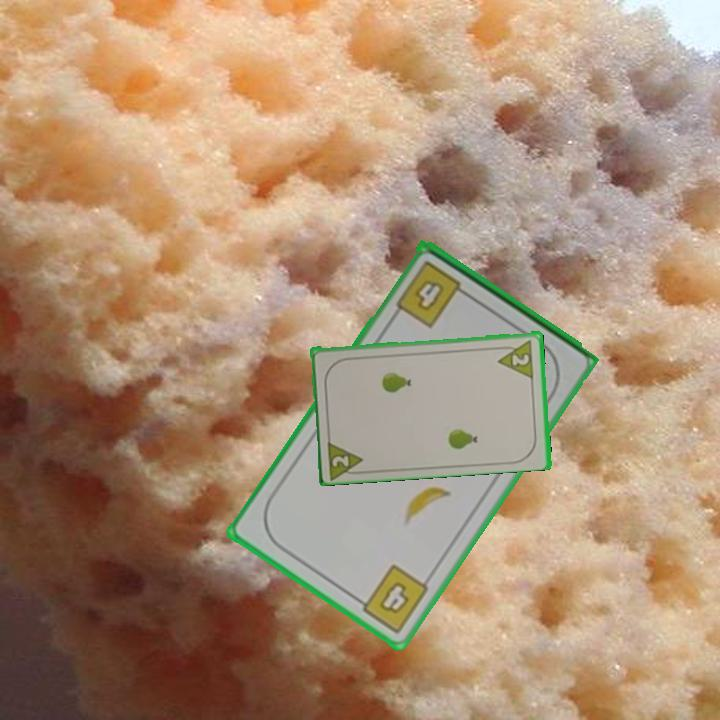2p: (324, 435, 368, 480), (494, 336, 537, 380)
4b: (350, 561, 432, 637), (392, 257, 473, 331)
